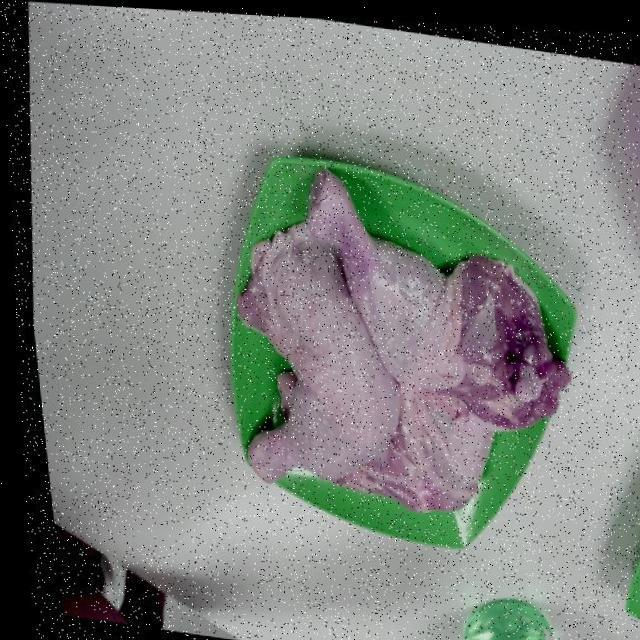quater: (284, 158, 552, 400), (224, 219, 392, 495), (347, 378, 478, 507)
